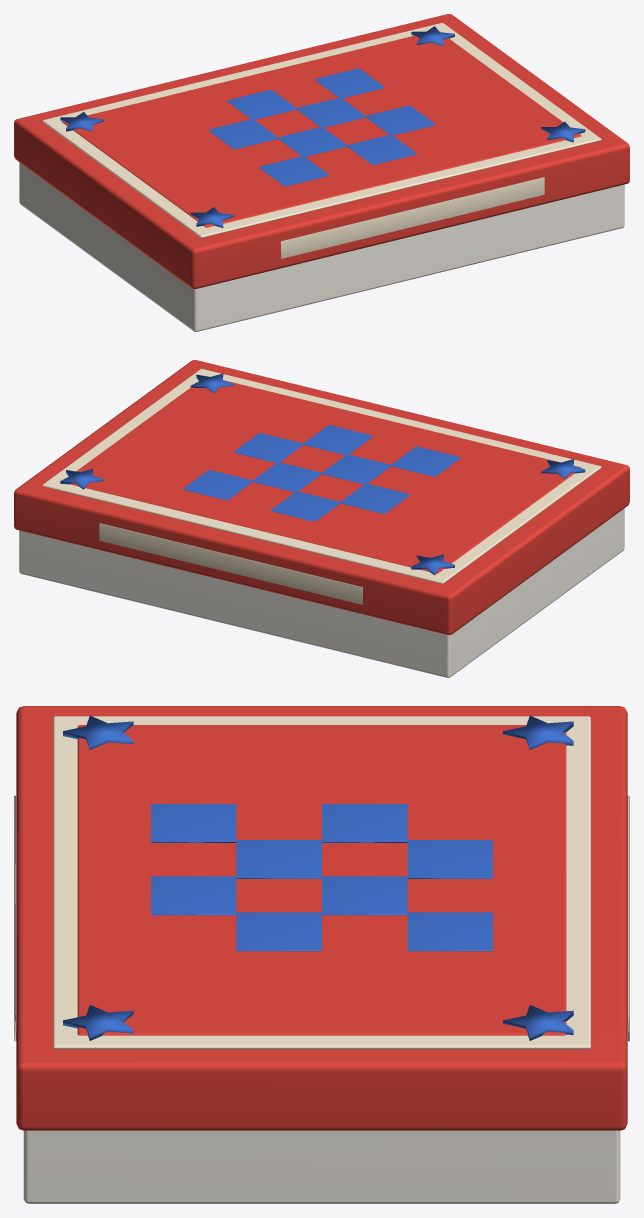
The model's file is toy_gamebox_b.glb.
3 views of the same model, one above another, from view 1: azimuth 30°, elevation 25°; view 2: azimuth 150°, elevation 25°; view 3: azimuth 270°, elevation 25° (orthographic). The views are drawn at different scales.
Visible parts, largest first — view 1: toy_gamebox_b; view 2: toy_gamebox_b; view 3: toy_gamebox_b.
Part boxes in pixels (x1,y1,x2,y2): toy_gamebox_b: (14,14,629,331); toy_gamebox_b: (14,360,629,677); toy_gamebox_b: (14,706,629,1203).
Size of the model in its own units: 7 by 1.38 by 5.04.
